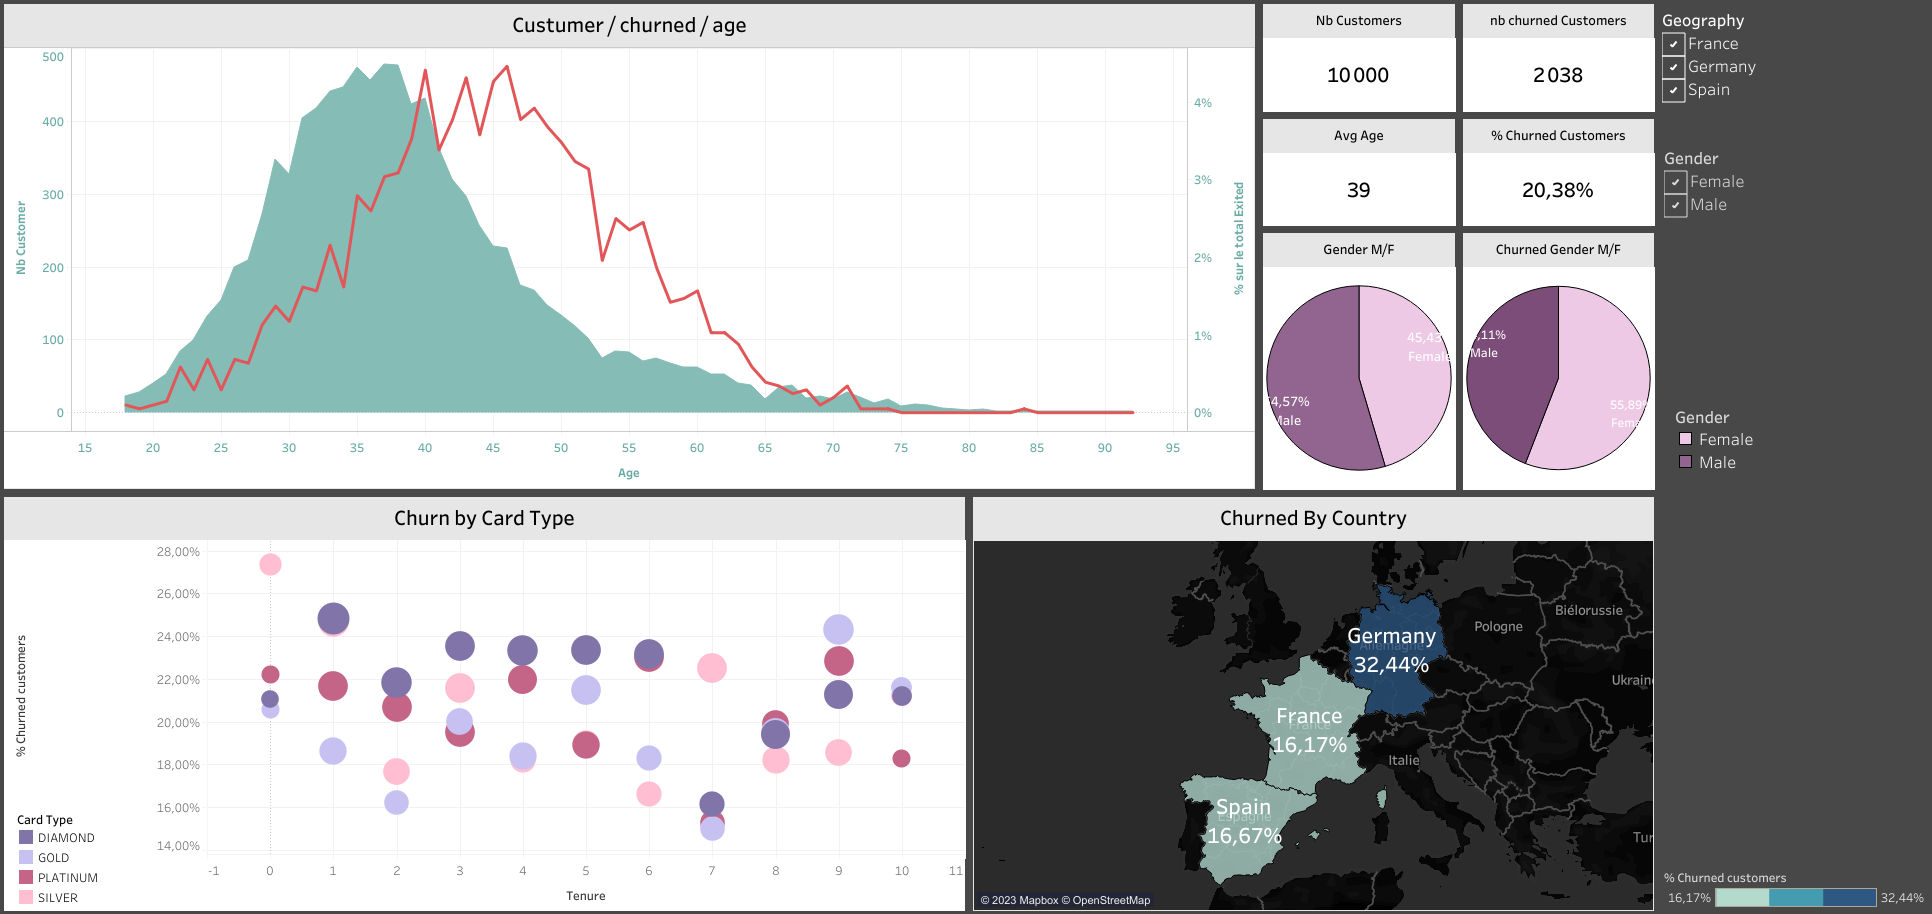

Layout of this report page (visuals, bound fields, positions):
{"tool":"tableau","page":{"name":"Tableau de bord 1","canvas":[1000,1000],"units":"permille","ordinal":0},"visuals":[{"type":"worksheet","title":"Custumer / churned / age","mark":"Area","rows":["Calculation_2168412851948118074","Exited"],"cols":["Age"],"box":[0,0,651.3,538.3]},{"type":"worksheet","title":"Nb Customers","mark":"Automatic","box":[651.3,0,103.4,125.8]},{"type":"worksheet","title":"nb churned Customers","mark":"Automatic","box":[754.7,0,103.1,125.8]},{"type":"filter","title":"Churned By Country","param":"[federated.0simw8402bqtgq142q1cx1u9h6r7].[none:Geography:nk]","box":[859.6,7.7,123,149.9]},{"type":"worksheet","title":"Avg Age","mark":"Automatic","box":[651.3,125.8,103.2,124.7]},{"type":"worksheet","title":"% Churned Customers","mark":"Automatic","box":[754.5,125.8,103.2,124.6]},{"type":"filter","title":"Gender M/F","param":"[federated.0simw8402bqtgq142q1cx1u9h6r7].[none:Gender:nk]","box":[860.9,158.6,132.3,156.5]},{"type":"worksheet","title":"Gender M/F Churned","mark":"Pie","box":[754.5,250.4,103.2,287.9]},{"type":"worksheet","title":"Gender M/F","mark":"Pie","box":[651.3,250.5,103.2,287.7]},{"type":"legend","title":"Gender M/F","param":"[federated.0simw8402bqtgq142q1cx1u9h6r7].[none:Gender:nk]","box":[865.8,440.9,137.3,88.6]},{"type":"worksheet","title":"Churn by Card Type","mark":"Circle","rows":["Calculation_2168412851948949563"],"cols":["Tenure"],"box":[0,538.3,601.9,461.7]},{"type":"worksheet","title":"Churned By Country","mark":"Automatic","box":[601.9,538.3,255.9,461.7]},{"type":"legend","title":"Churn by Card Type","param":"[federated.0simw8402bqtgq142q1cx1u9h6r7].[none:Card Type:nk]","box":[8.1,882.9,65.2,108.3]}]}

Visuals, with their boxes on the dashboard's canvas, which has no fixed pixel size, in thousandths of its width and height (x1, y1, x2, y2). These are canvas units, not pixel positions in the 1932x914 screenshot, which may show the page scaled, cropped or inside an application window:
"Custumer / churned / age" worksheet (Area marks): (0, 0, 651, 538)
"Nb Customers" worksheet: (651, 0, 755, 126)
"nb churned Customers" worksheet: (755, 0, 858, 126)
"Churned By Country" filter: (860, 8, 983, 158)
"Avg Age" worksheet: (651, 126, 754, 250)
"% Churned Customers" worksheet: (754, 126, 858, 250)
"Gender M/F" filter: (861, 159, 993, 315)
"Gender M/F Churned" worksheet (Pie marks): (754, 250, 858, 538)
"Gender M/F" worksheet (Pie marks): (651, 250, 754, 538)
"Gender M/F" legend: (866, 441, 1003, 530)
"Churn by Card Type" worksheet (Circle marks): (0, 538, 602, 1000)
"Churned By Country" worksheet: (602, 538, 858, 1000)
"Churn by Card Type" legend: (8, 883, 73, 991)
